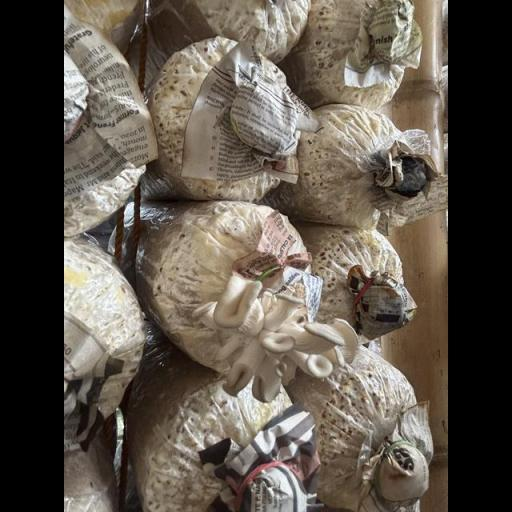White Oyster Mushroom: (187, 272, 362, 409)
